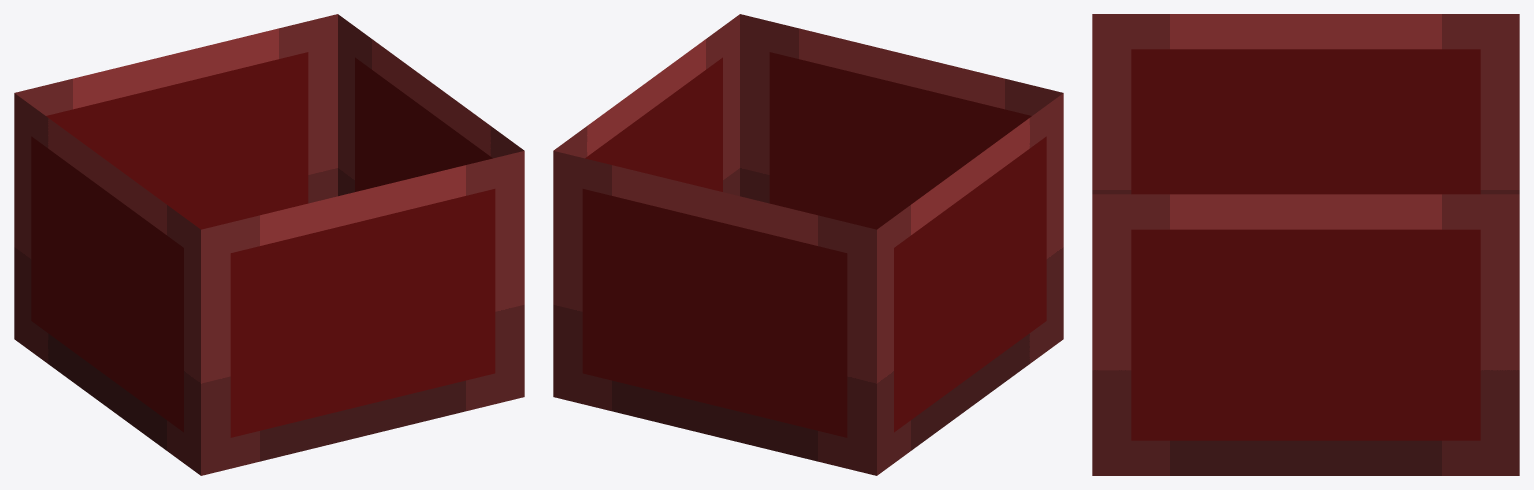
The model's file is terrarium_hells_glass.obj.
3 views of the same model, side by side, from view 1: azimuth 30°, elevation 25°; view 2: azimuth 150°, elevation 25°; view 3: azimuth 270°, elevation 25° (orthographic). The views are drawn at different scales.
Visible parts, largest first — view 1: TERRARIUM_GLASS_SHORT_RED_Cube.047; view 2: TERRARIUM_GLASS_SHORT_RED_Cube.047; view 3: TERRARIUM_GLASS_SHORT_RED_Cube.047.
Part boxes in pixels (x1,y1,x2,y2): TERRARIUM_GLASS_SHORT_RED_Cube.047: (14,14,524,475); TERRARIUM_GLASS_SHORT_RED_Cube.047: (553,14,1063,475); TERRARIUM_GLASS_SHORT_RED_Cube.047: (1092,14,1519,475).
Bounding box in the file's own units: 0.6875 × 0.5 × 0.6875.
